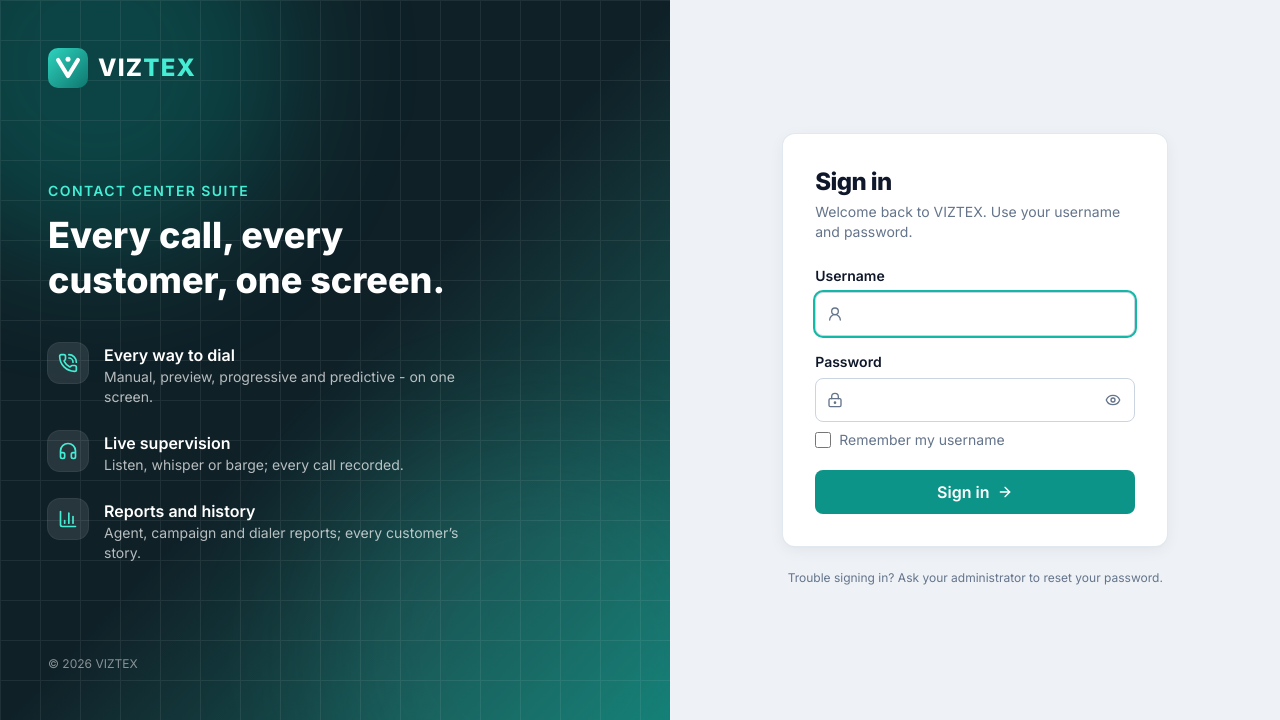
Test case: login › shows the server message for a wrong password
Type "admin" into the field labelled "Username".
click(975, 314); type("admin")  # box [815,292,1135,336]
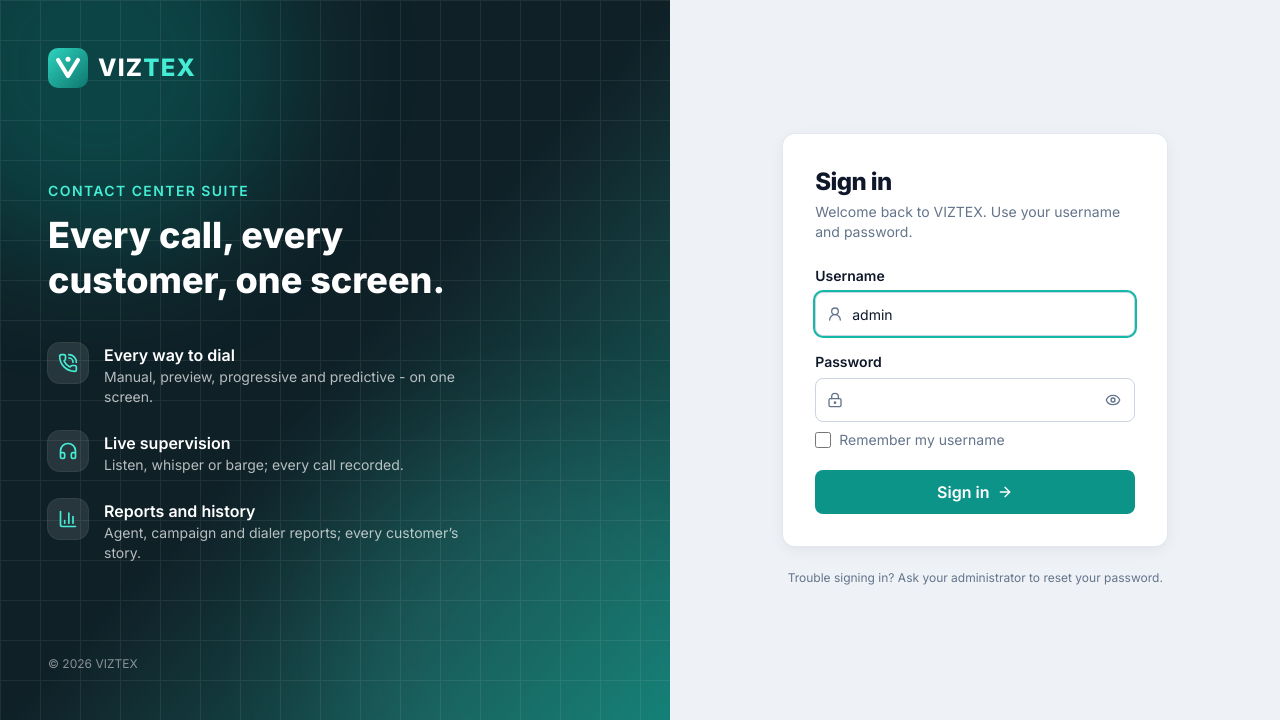
Type "nope" into the password field labelled "Password".
click(975, 400); type("nope")  # box [815,378,1135,422]
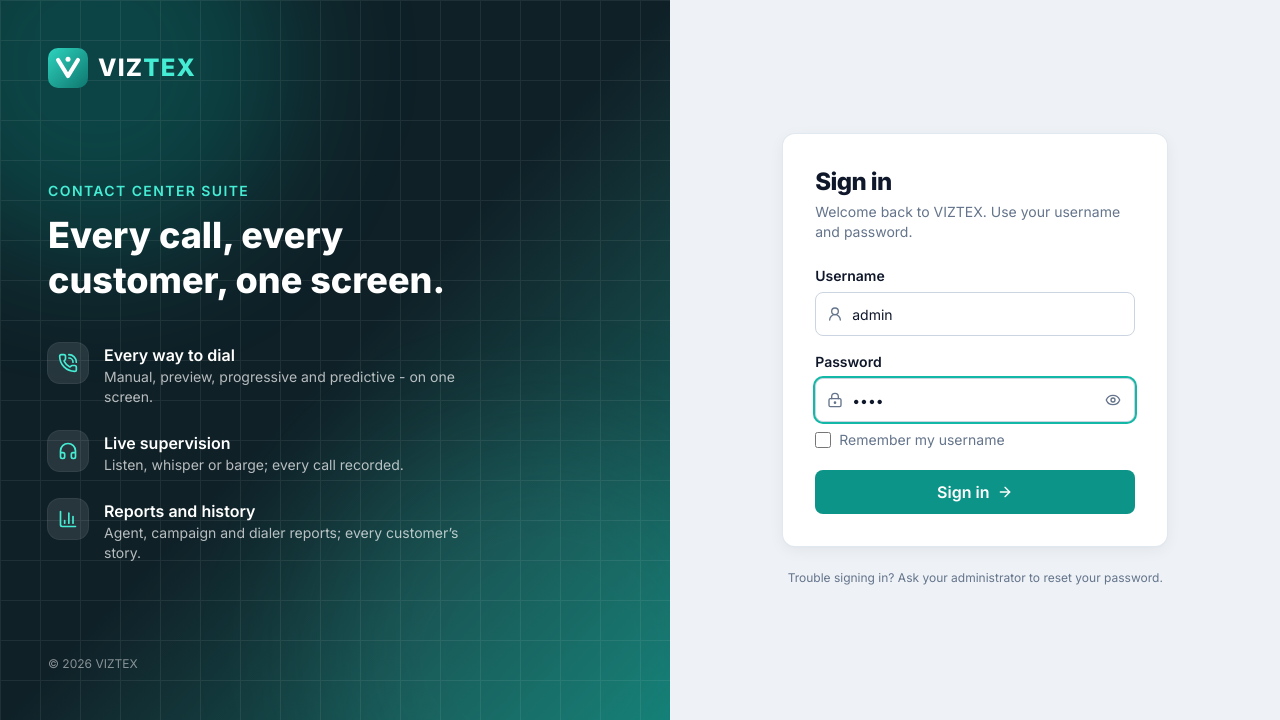
Click the button "Sign in".
click(975, 492)  # box [815,470,1135,514]
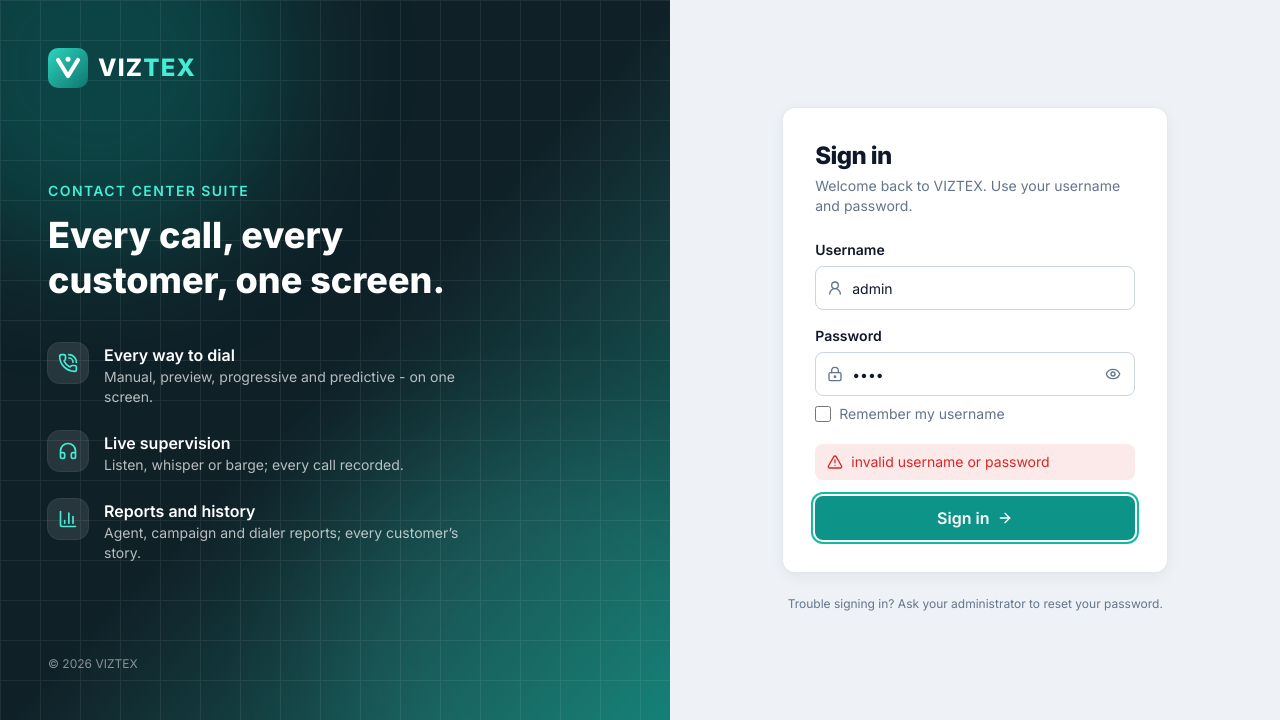
Result: the message reads "invalid username or password" at [851,453,1050,470]
